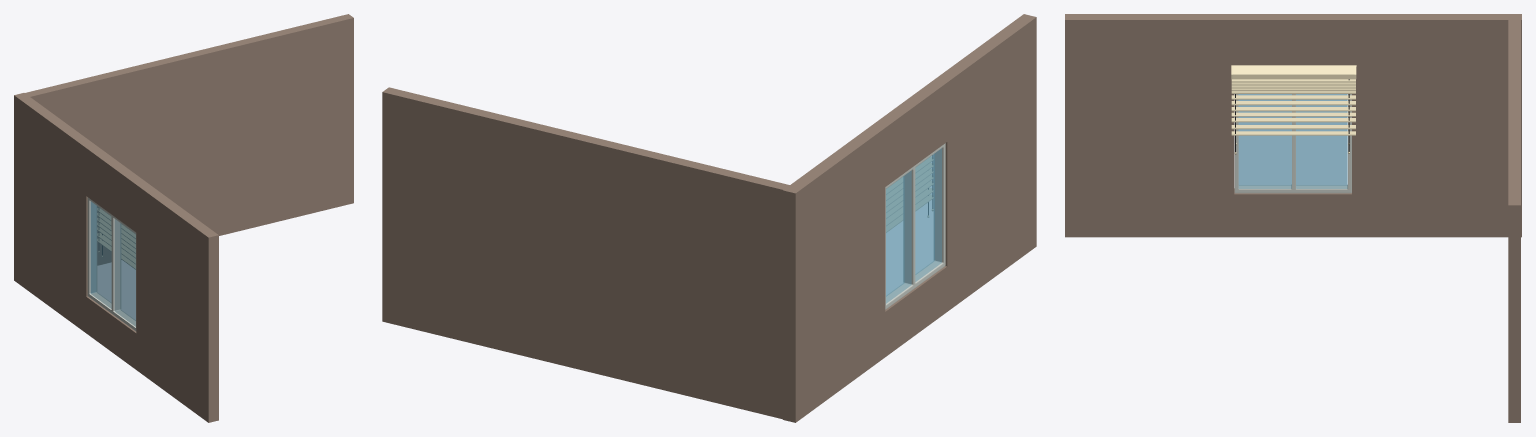
The model's file is walls_tier11.fbx.
3 renders of one model, left to right at view 1: azimuth 30°, elevation 25°; view 2: azimuth 150°, elevation 25°; view 3: azimuth 270°, elevation 25°, orthographic. The views are drawn at different scales.
Visible parts, largest first — view 1: Cube.007, Cube, Cube.003, Cube.001; view 2: Cube.007, Cube, Cube.003, Cube.001; view 3: Cube, Cube.003, Cube.007, Cube.002, Cube.001, Cube.014, Cube.015, Cube.016, Cube.018, Cube.019, Cube.020, Cube.017.
Part boxes in pixels (box(x1,y1,x2,y2)): Cube.007: box(24, 14, 353, 265); Cube: box(14, 93, 218, 422); Cube.003: box(90, 201, 135, 326); Cube.001: box(87, 197, 136, 331); Cube.007: box(382, 87, 789, 419); Cube: box(783, 14, 1036, 422); Cube.003: box(886, 148, 941, 303); Cube.001: box(885, 143, 945, 309); Cube: box(1065, 14, 1521, 237); Cube.003: box(1238, 94, 1347, 188); Cube.007: box(1508, 19, 1520, 422); Cube.002: box(1231, 65, 1356, 79); Cube.001: box(1234, 94, 1351, 193); Cube.014: box(1231, 95, 1355, 99); Cube.015: box(1231, 101, 1355, 105); Cube.016: box(1231, 107, 1355, 111); Cube.018: box(1231, 118, 1355, 122); Cube.019: box(1231, 125, 1355, 129); Cube.020: box(1231, 131, 1355, 135); Cube.017: box(1231, 112, 1355, 116).
Size of the model in its own units: 653 by 346 by 658.
